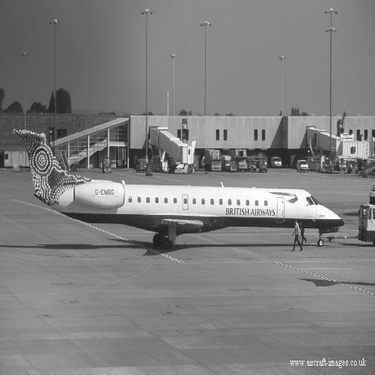airplane: (20, 102, 368, 278)
